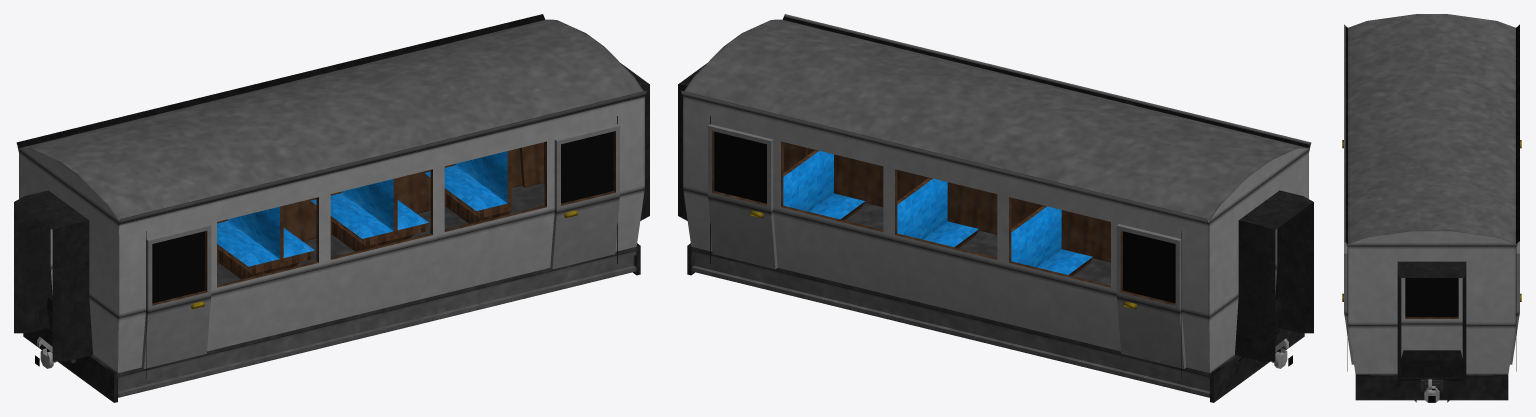
The model's file is kitsune_mk2_coach_corridor.obj.
The picture shows the model from 3 angles, left to right: view 1: azimuth 30°, elevation 25°; view 2: azimuth 150°, elevation 25°; view 3: azimuth 270°, elevation 25°; orthographic projection. The views are drawn at different scales.
Parts seen in each view (by area): view 1: FRAME_body, FRAME_body_roof, FRAME_corridor.001, DOOR_3_EXTERNAL, DOOR_1_EXTERNAL, FRAME_body_int, FRAME_bench_middle.002, FRAME_bench_middle.001, FRAME_3, FRAME_2, FRAME_bench_end.002, FRAME_1 (+3 smaller); view 2: FRAME_body, FRAME_body_roof, FRAME_corridor.001, DOOR_4_EXTERNAL, DOOR_2_EXTERNAL, FRAME_body_int, FRAME_2, FRAME_3, FRAME_1, FRAME_bench_middle.001, FRAME_bench_end.002, FRAME_bench_middle.002 (+4 smaller); view 3: FRAME_body_roof, FRAME_body, DOOR_6_CONNECTINGTL_-0.6875_Z, FRAME_end2, FRAME_corridor.002, COUPLED_REAR_4, DOOR_4_EXTERNAL, DOOR_3_EXTERNAL, COUPLER_ENGAGED_REAR_2_TOGGLE_LABEL_Uncouple.
Part boxes in pixels (x1,y1,x2,y2): FRAME_body: (16,14,647,372); FRAME_body_roof: (19,19,643,220); FRAME_corridor.001: (14,190,92,361); DOOR_3_EXTERNAL: (550,124,619,269); DOOR_1_EXTERNAL: (141,224,211,368); FRAME_body_int: (217,141,546,287); FRAME_bench_middle.002: (310,178,428,251); FRAME_bench_middle.001: (217,205,314,279); FRAME_3: (411,188,603,316); FRAME_2: (217,235,451,352); FRAME_bench_end.002: (424,150,511,223); FRAME_1: (149,265,302,389); FRAME_body: (680,14,1311,372); FRAME_body_roof: (684,19,1308,220); FRAME_corridor.001: (1235,190,1313,361); DOOR_4_EXTERNAL: (708,124,777,269); DOOR_2_EXTERNAL: (1116,224,1186,368); FRAME_body_int: (781,141,1110,287); FRAME_2: (876,230,1110,352); FRAME_3: (724,193,883,316); FRAME_1: (1025,265,1178,389); FRAME_bench_middle.001: (1011,205,1092,275); FRAME_bench_end.002: (783,150,864,220); FRAME_bench_middle.002: (897,177,978,248); FRAME_body_roof: (1348,14,1515,243); FRAME_body: (1344,24,1519,374); DOOR_6_CONNECTINGTL_-0.6875_Z: (1401,278,1462,357); FRAME_end2: (1355,374,1508,400); FRAME_corridor.002: (1397,261,1466,388); COUPLED_REAR_4: (1401,350,1462,377); DOOR_4_EXTERNAL: (1510,241,1521,364); DOOR_3_EXTERNAL: (1342,241,1353,364); COUPLER_ENGAGED_REAR_2_TOGGLE_LABEL_Uncouple: (1420,379,1443,402).
Size of the model in its own units: 9.5 by 3.31 by 2.94.
6 materials, 6 textured.
